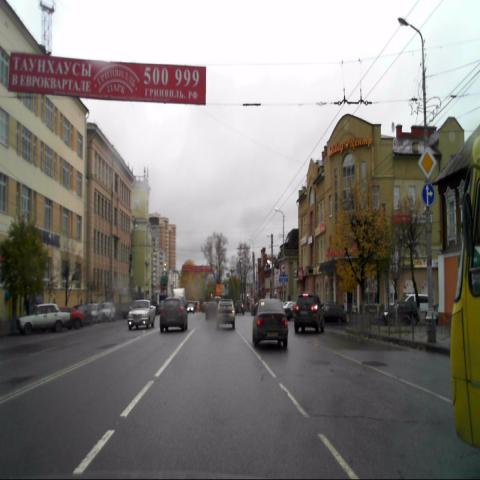2_1: (418, 146, 436, 179)
4_1_4: (420, 182, 434, 207)
